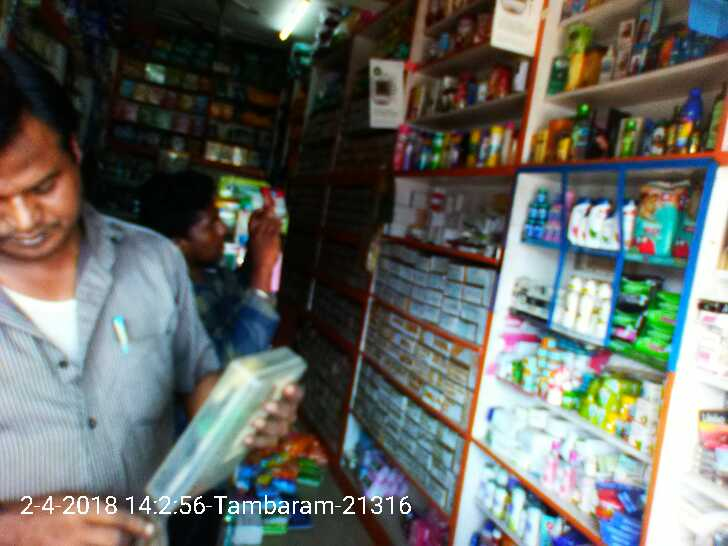vicks: (519, 186, 567, 248)
